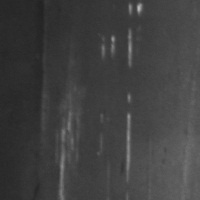scratches: (98, 1, 146, 71), (53, 113, 83, 199), (118, 92, 135, 184)
